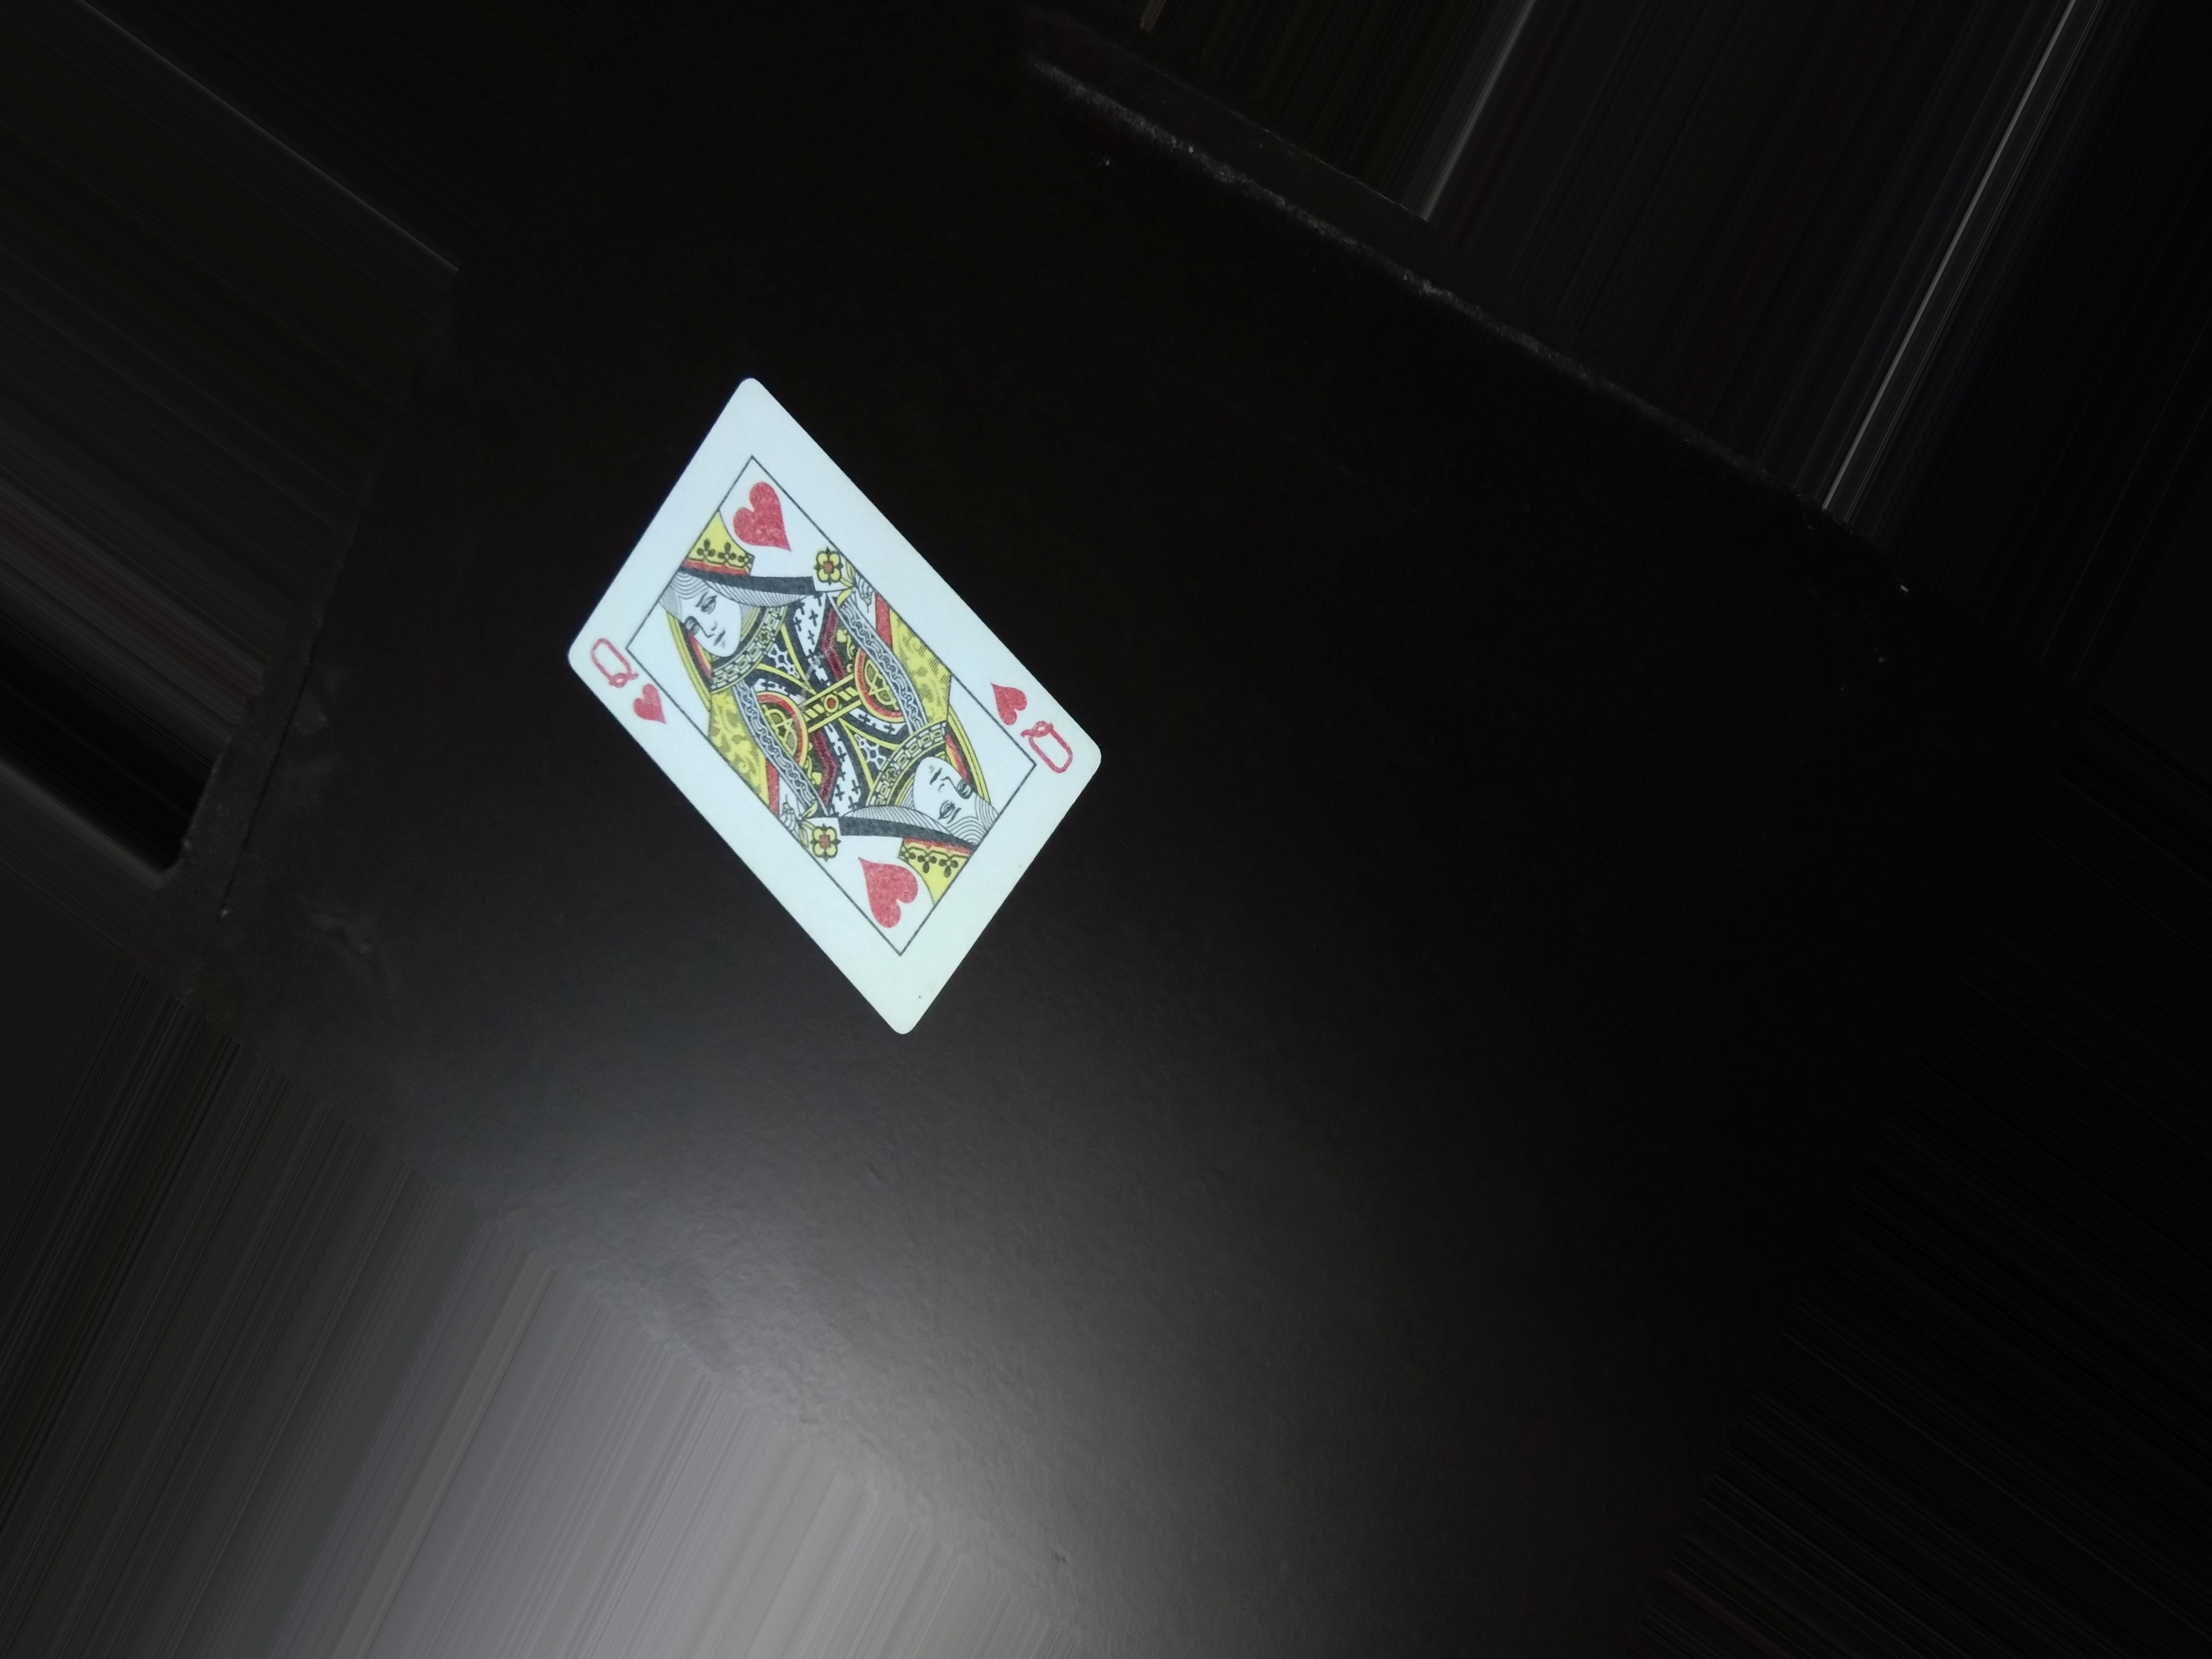QH: (993, 667, 1073, 793)
